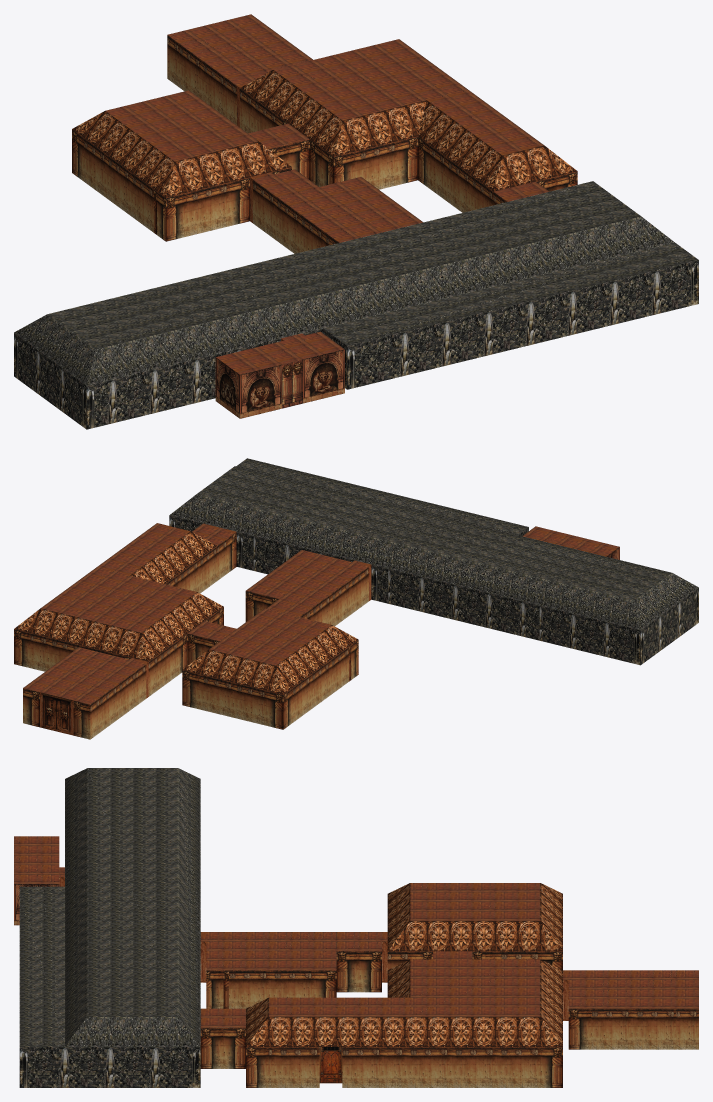
Rendered from zddb08.blv.obj.
3 views of the same model, one above another, from view 1: azimuth 30°, elevation 25°; view 2: azimuth 150°, elevation 25°; view 3: azimuth 270°, elevation 25° (orthographic). The views are drawn at different scales.
Parts seen in each view (by area): view 1: Room5, Room1, Room3, Room2, Room6, Room4; view 2: Room5, Room1, Room3, Room4, Room2, Room6; view 3: Room5, Room1, Room3, Room2, Room4, Room6.
Part boxes in pixels (x1,y1,x2,y2): Room5: [14, 181, 698, 429]; Room1: [237, 39, 577, 212]; Room3: [72, 90, 309, 241]; Room2: [250, 169, 423, 253]; Room6: [215, 331, 344, 418]; Room4: [167, 14, 312, 124]; Room5: [169, 458, 698, 665]; Room1: [14, 523, 236, 698]; Room3: [182, 608, 358, 729]; Room4: [23, 647, 146, 739]; Room2: [245, 550, 371, 626]; Room6: [522, 526, 619, 559]; Room5: [19, 768, 200, 1087]; Room1: [200, 959, 568, 1087]; Room3: [387, 883, 562, 969]; Room2: [200, 932, 387, 1008]; Room4: [568, 970, 698, 1049]; Room6: [14, 836, 64, 925].
Bounding box in the file's own units: 3584 × 384 × 3872.
Materials: 33 (33 with a texture image).
